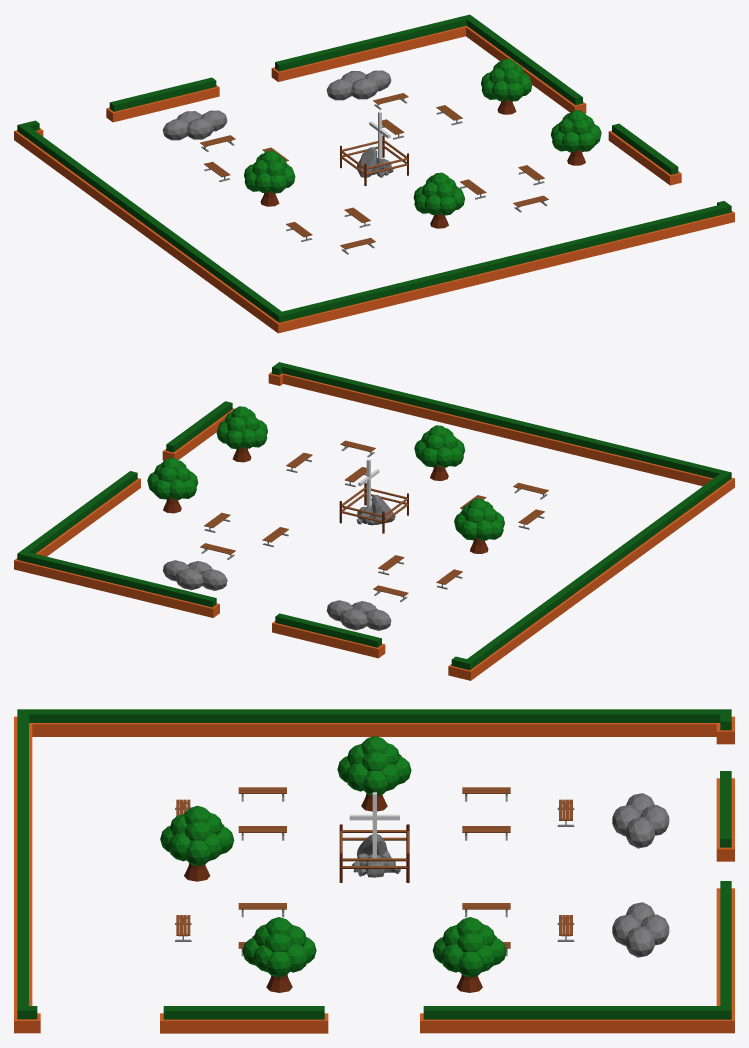
Rendered from Cathedral-Model.glb.
The picture shows the model from 3 angles, top to bottom: view 1: azimuth 30°, elevation 25°; view 2: azimuth 150°, elevation 25°; view 3: azimuth 270°, elevation 25°; orthographic projection. The views are drawn at different scales.
Parts seen in each view (by area): view 1: Cube.1015, Cube.1012, Cube.1018, Cube.1205, Cube.1206; view 2: Cube.1015, Cube.1012, Cube.1018, Cube.1205, Cube.1206; view 3: Cube.1015, Cube.1012, Cube.1206, Cube.1018, Cube.1205, Icosphere.202, Icosphere.200, Cube.1464, Icosphere.197, Icosphere.196, Icosphere.194, Icosphere.223 (+3 smaller).
Part boxes in pixels (x1,y1,x2,y2): Cube.1015: (14, 120, 506, 333); Cube.1012: (271, 14, 586, 113); Cube.1018: (501, 201, 734, 277); Cube.1205: (106, 77, 219, 122); Cube.1206: (608, 123, 681, 185); Cube.1015: (448, 417, 734, 680); Cube.1012: (14, 471, 219, 617); Cube.1018: (268, 362, 504, 436); Cube.1205: (272, 613, 385, 658); Cube.1206: (162, 401, 234, 460); Cube.1015: (14, 709, 734, 868); Cube.1012: (420, 881, 734, 1033); Cube.1206: (160, 1006, 328, 1033); Cube.1018: (14, 860, 40, 1033); Cube.1205: (716, 771, 734, 861); Icosphere.202: (625, 926, 654, 957); Icosphere.200: (625, 817, 654, 848); Cube.1464: (349, 792, 399, 858); Icosphere.197: (641, 805, 669, 835); Icosphere.196: (641, 914, 669, 945); Icosphere.194: (612, 805, 640, 836); Icosphere.223: (185, 840, 210, 866).
Size of the model in its own units: 32.23 by 4.89 by 32.27.
